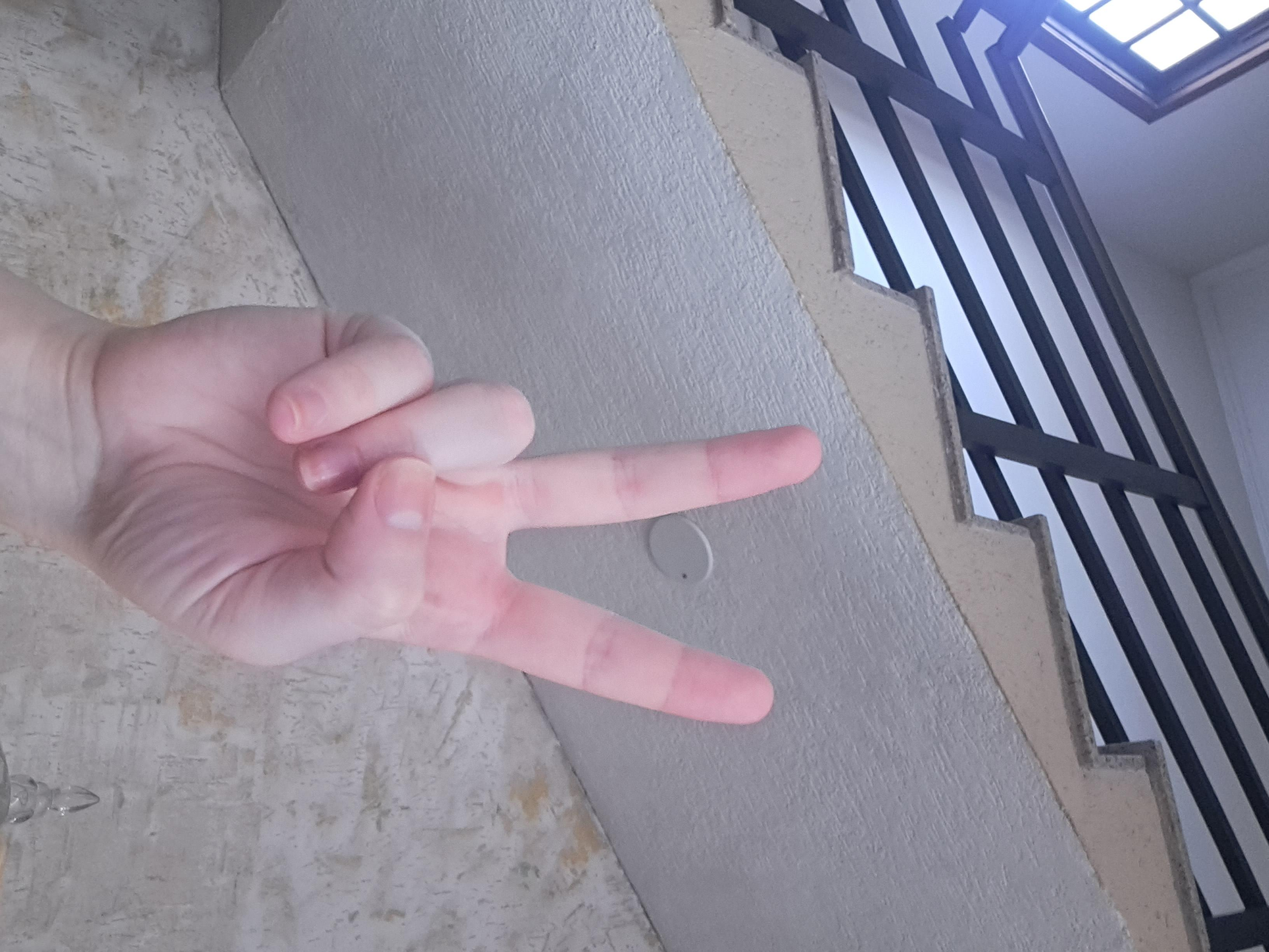V: (363, 318, 980, 904)
